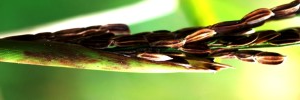RiceSheathBrownRot: (1, 3, 300, 73)
